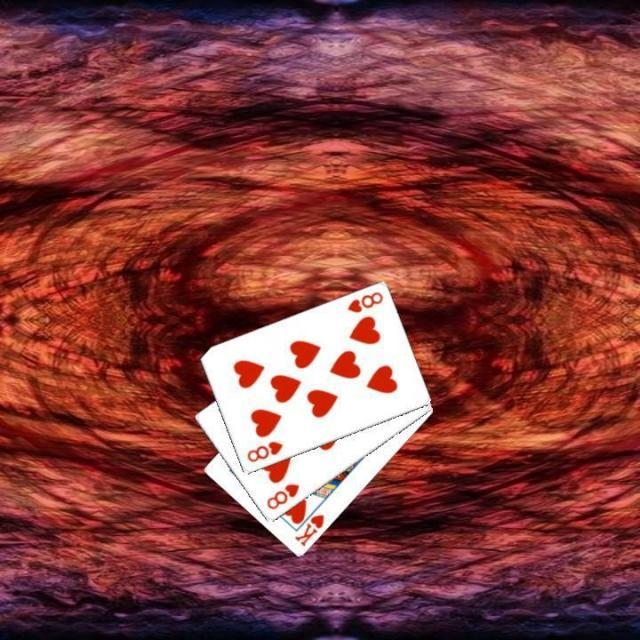8H: (262, 480, 302, 512), (242, 437, 284, 464), (343, 288, 385, 315)
KH: (290, 511, 326, 548)
